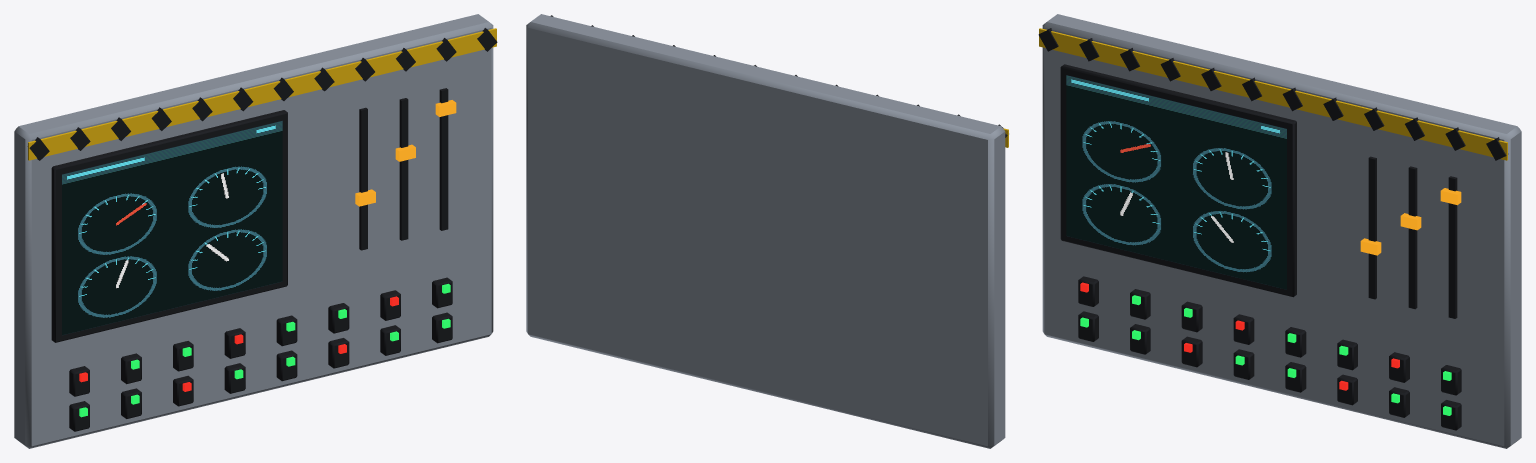
The model's file is display_power_board.glb.
3 views of the same model, side by side, from view 1: azimuth 30°, elevation 25°; view 2: azimuth 150°, elevation 25°; view 3: azimuth 330°, elevation 25° (orthographic).
Visible parts, largest first — view 1: display_power_board; view 2: display_power_board; view 3: display_power_board.
Part boxes in pixels (x1,y1,x2,y2): display_power_board: (14, 14, 497, 448); display_power_board: (526, 14, 1008, 448); display_power_board: (1038, 14, 1521, 448).
Bounding box in the file's own units: 1.4 × 0.9 × 0.116.
Materials: 7 (1 with a texture image).
